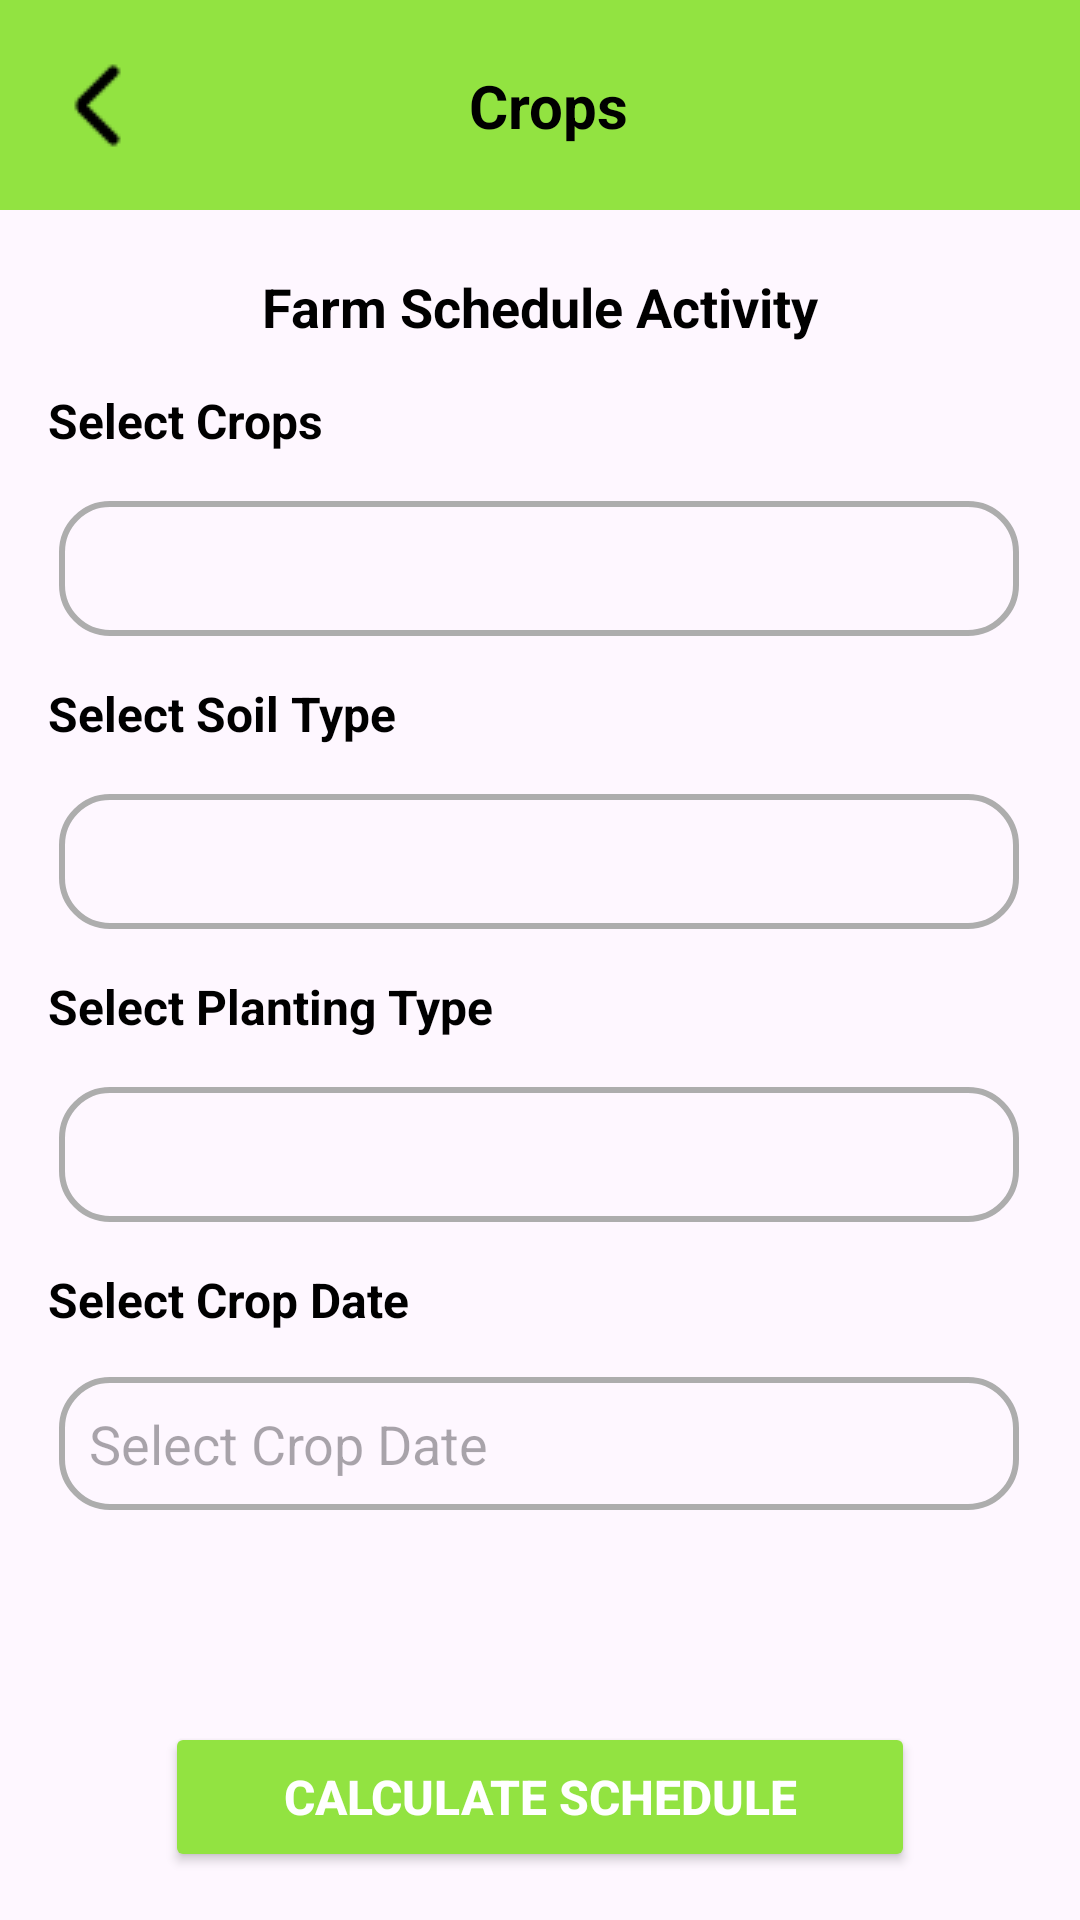

Where icons sit on this 1080x1920 app screen, as (x1, y1, x2, y2):
back arrow: (74, 64, 121, 147)
